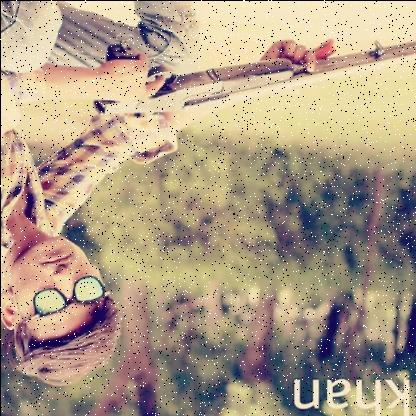rifle: (88, 29, 416, 118)
